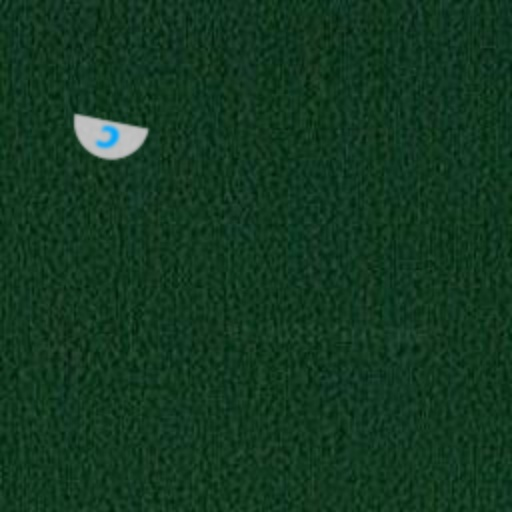semicircle: (62, 94, 154, 186)
